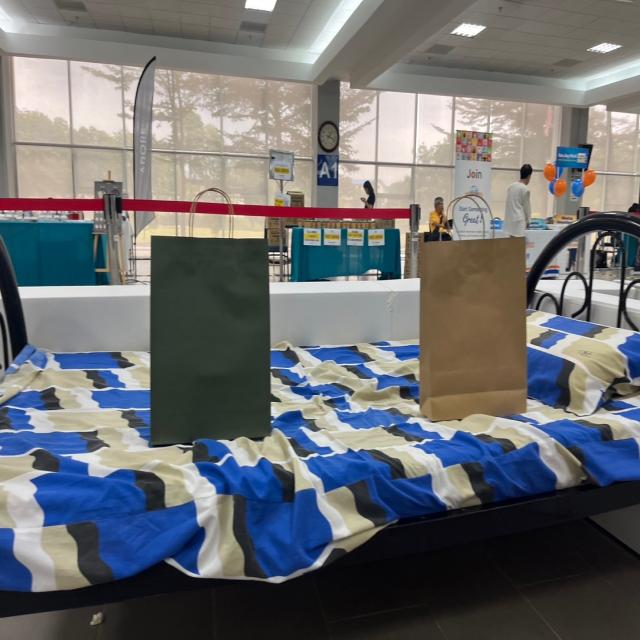bag: (409, 184, 532, 416), (156, 188, 269, 440)
